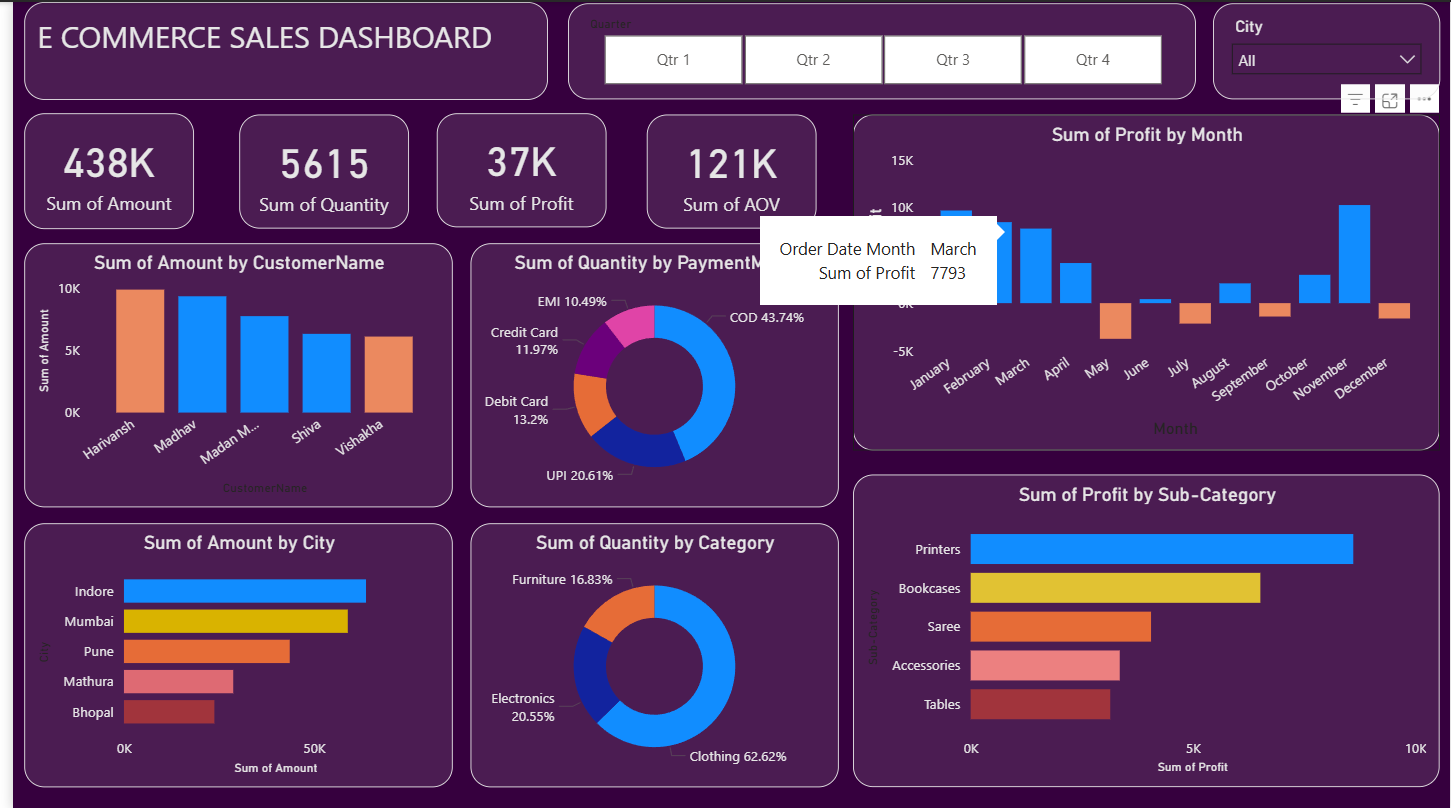

This screenshot's page, from the dashboard's own definition file:
{"tool":"powerbi","page":{"name":"Page 1","canvas":[1280,720],"ordinal":0},"visuals":[{"type":"textbox","box":[9.8,0,466.3,87.1],"z":0},{"type":"columnChart","fields":{"Y":["Details.Profit"],"Category":["Orders.Order Date.Variation.Date Hierarchy.Month"]},"box":[748.5,100.6,522.7,299.4],"z":1000},{"type":"donutChart","fields":{"Y":["Details.Quantity"],"Category":["Details.Category"]},"box":[407.4,463.8,327.6,235.6],"z":2000},{"type":"clusteredBarChart","fields":{"Category":["Details.Sub-Category"],"Y":["Details.Profit"]},"box":[748.5,420.9,522.7,278.5],"z":3000},{"type":"donutChart","fields":{"Y":["Details.Quantity"],"Category":["Details.PaymentMode"]},"box":[407.4,214.7,327.6,235.6],"z":4000},{"type":"card","fields":{"Values":["Details.AOV"]},"box":[564.4,100.6,150.9,101.8],"z":5000},{"type":"card","fields":{"Values":["Details.Amount"]},"box":[9.8,99.4,150.9,103.1],"z":6000},{"type":"card","fields":{"Values":["Details.Quantity"]},"box":[201.2,100.6,150.9,101.8],"z":7000},{"type":"card","fields":{"Values":["Details.Profit"]},"box":[377.9,99.4,150.9,101.8],"z":8000},{"type":"clusteredBarChart","fields":{"Category":["Orders.City"],"Y":["Details.Amount"]},"box":[9.8,463.8,381.6,235.6],"z":9000},{"type":"columnChart","fields":{"Y":["Details.Amount"],"Category":["Orders.CustomerName"]},"box":[9.8,214.7,381.6,235.6],"z":10000},{"type":"slicer","fields":{"Values":["Orders.Order Date.Variation.Date Hierarchy.Quarter"]},"box":[494.5,1.2,559.5,85.9],"z":10001},{"type":"slicer","fields":{"Values":["Orders.City"]},"box":[1068.7,1.2,202.5,85.9],"z":10002}]}

Visuals, with their boxes in screenshot pixels (x1, y1, x2, y2), scaled from the page's 1280x720 canvas onto the 1451x808 screenshot:
textbox: (11, 0, 540, 98)
columnChart - Details.Profit x Orders.Order Date.Variation.Date Hierarchy.Month: (848, 113, 1441, 449)
donutChart - Details.Quantity x Details.Category: (462, 520, 833, 785)
clusteredBarChart - Details.Sub-Category x Details.Profit: (848, 472, 1441, 785)
donutChart - Details.Quantity x Details.PaymentMode: (462, 241, 833, 505)
card - Details.AOV: (640, 113, 811, 227)
card - Details.Amount: (11, 112, 182, 227)
card - Details.Quantity: (228, 113, 399, 227)
card - Details.Profit: (428, 112, 599, 226)
clusteredBarChart - Orders.City x Details.Amount: (11, 520, 444, 785)
columnChart - Details.Amount x Orders.CustomerName: (11, 241, 444, 505)
slicer - Orders.Order Date.Variation.Date Hierarchy.Quarter: (561, 1, 1195, 98)
slicer - Orders.City: (1211, 1, 1441, 98)
